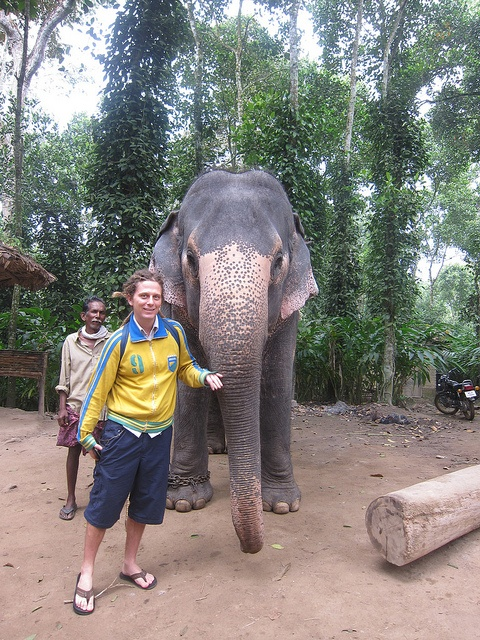elephant: (146, 168, 319, 556)
